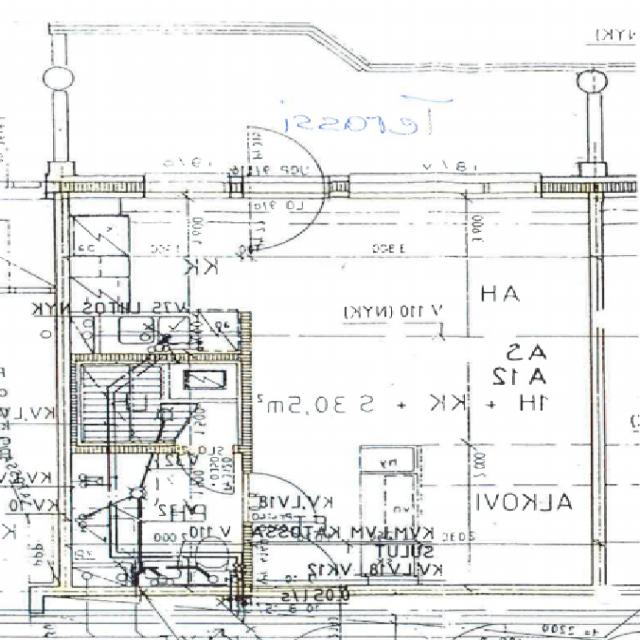door: (258, 522, 343, 596), (251, 175, 325, 256), (251, 119, 325, 200), (240, 473, 316, 522), (179, 440, 235, 496)
